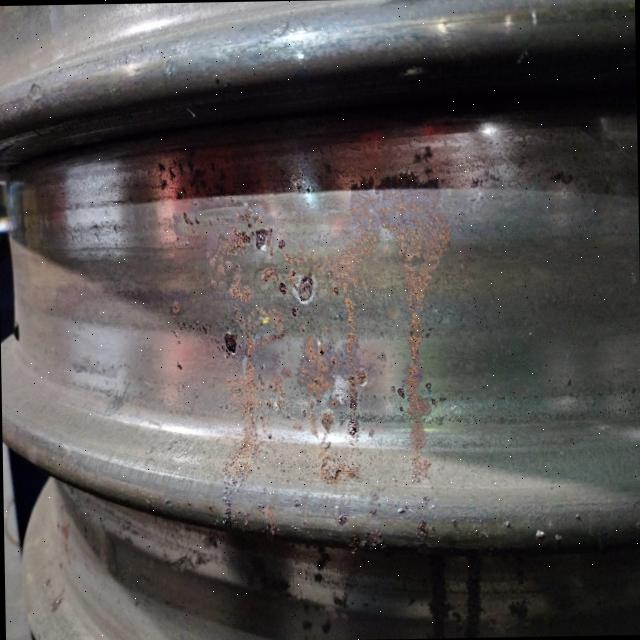Blue hole: (25, 85, 52, 106)
